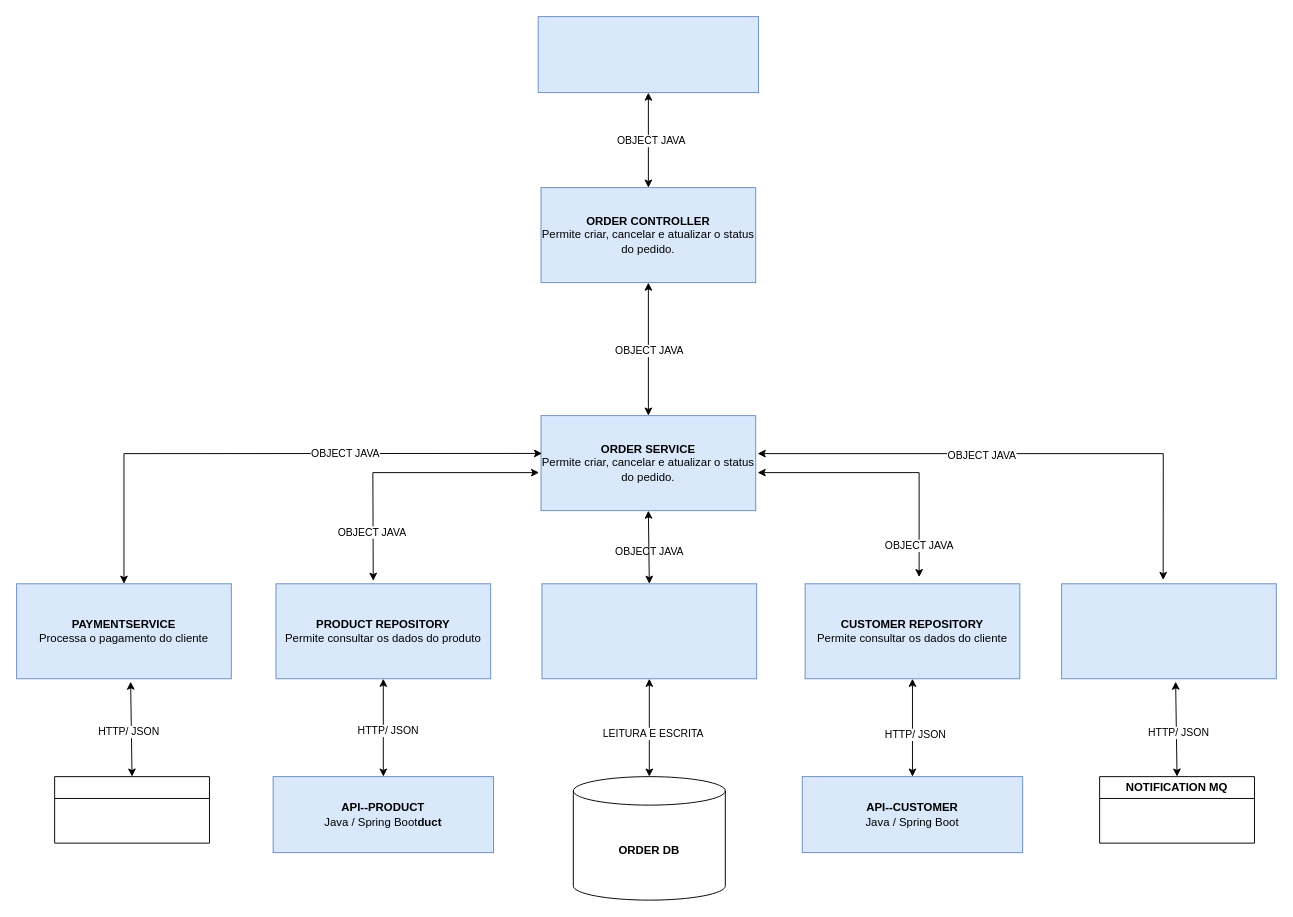
This 1293x917 diagram has some shape labels left out. The shapes that lost their labels are listed below. From the top down, each one's centre as x and y in pixels, then its label:
point (648, 54): API--ORDER Java / Spring Boot
point (649, 631): ORDER REPOSITORY Permite criar, cancelar e atualizar o status do pedido.
point (1168, 631): NOTIFICATION SERVICE Permite enviar notificações ao cliente
point (131, 809): PAYMENT MQ
